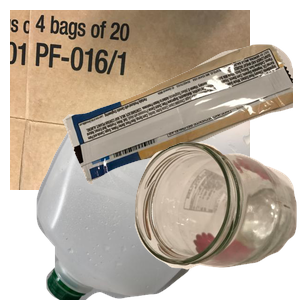cardboard: (10, 10, 250, 190)
glass: (132, 139, 300, 300)
plastic: (34, 120, 274, 300)
trash: (60, 42, 300, 219)
